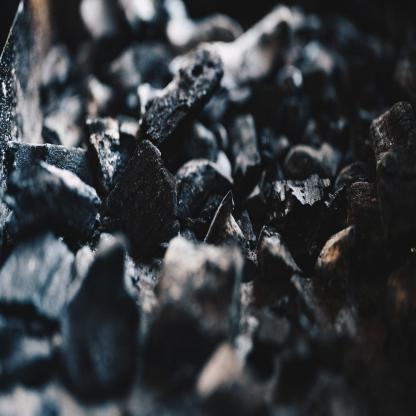Sedimentary_coal: (130, 50, 232, 144), (10, 132, 98, 223), (111, 150, 181, 238)
